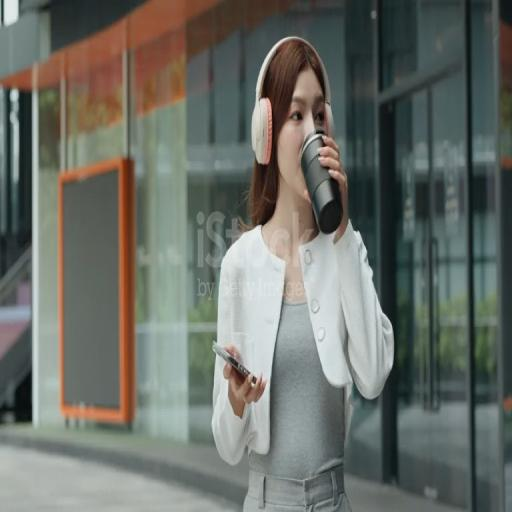earphone: (253, 28, 340, 158)
